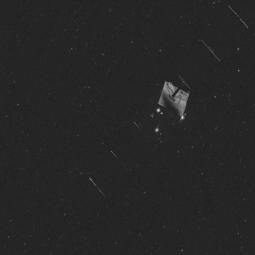smart_1: (116, 30, 231, 152)
